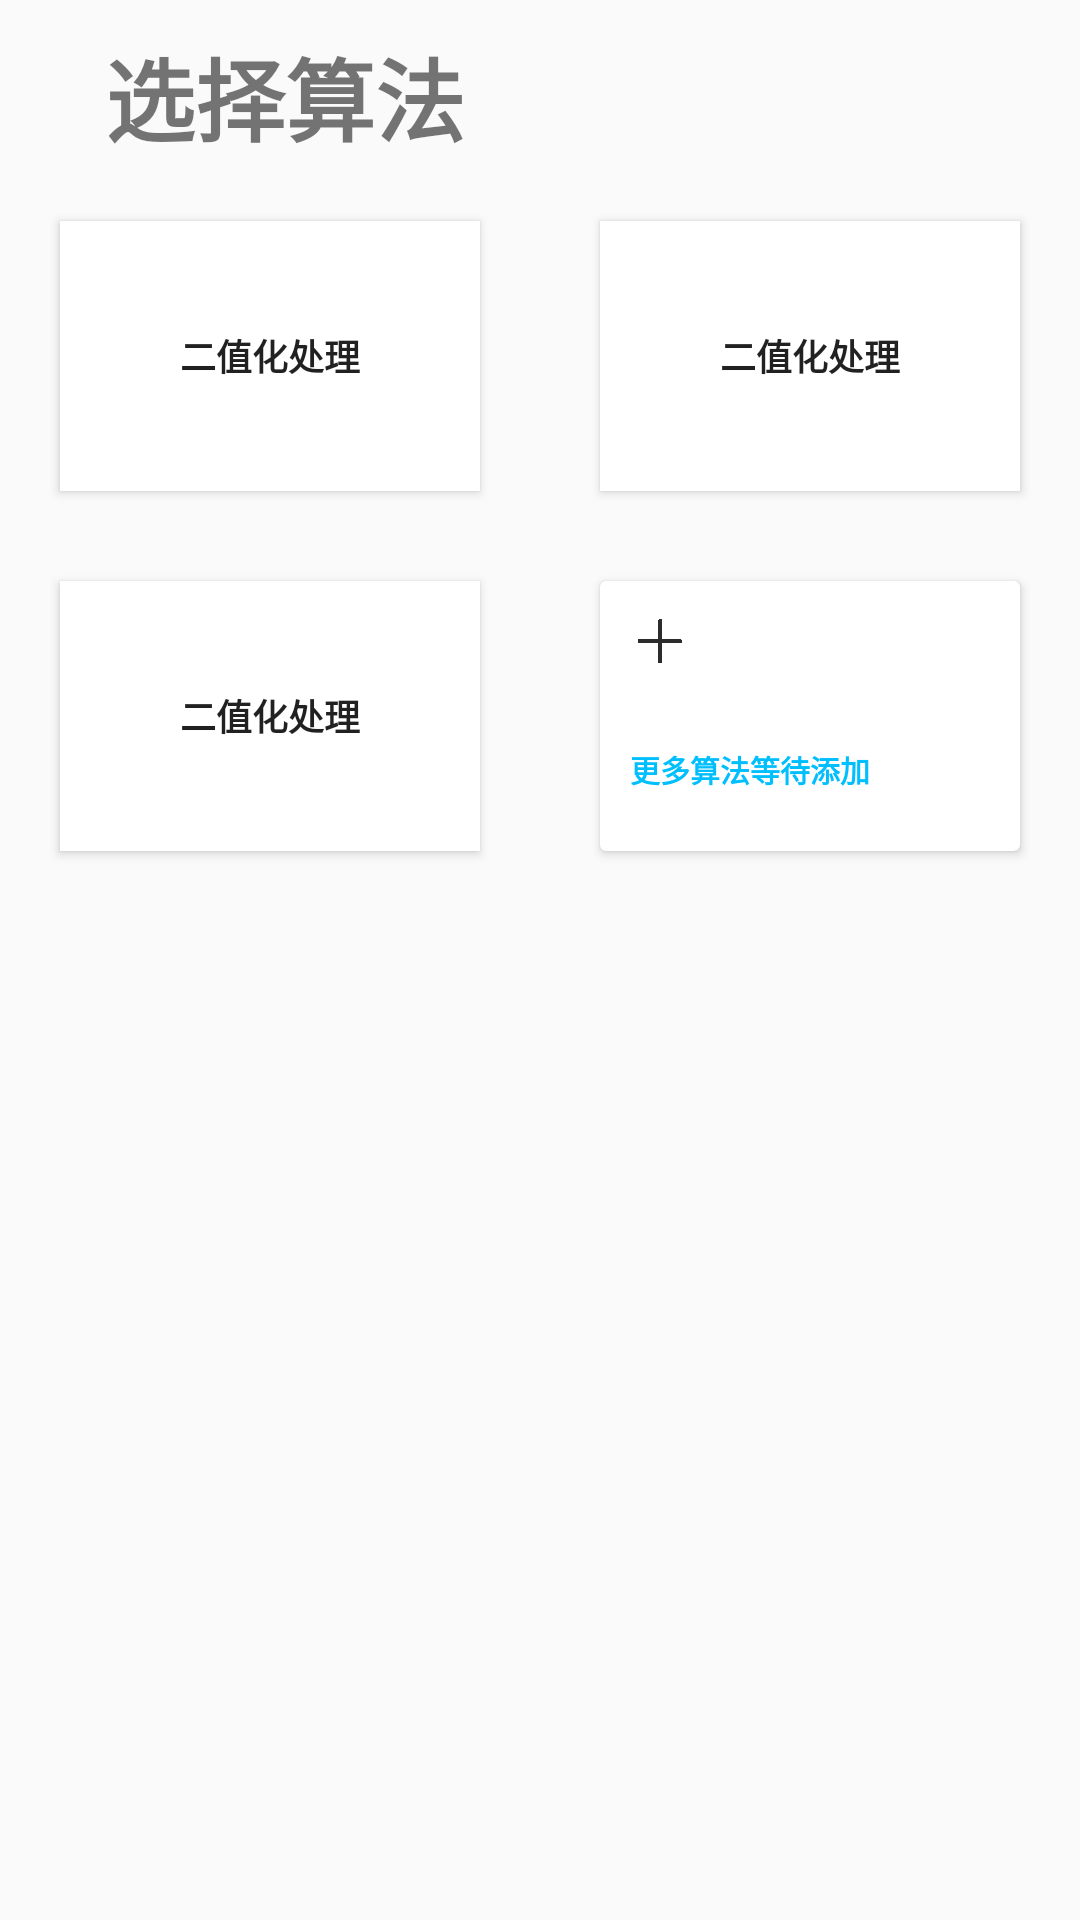

Named icons in this screenshot (1080px x 1920px) and their bounding boxes, (x1, y1, x2, y2):
add: (638, 619, 682, 663)
